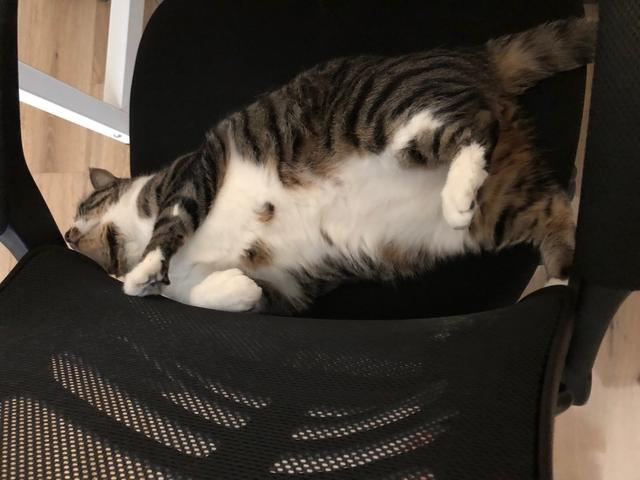playdoh: (60, 18, 600, 309)
